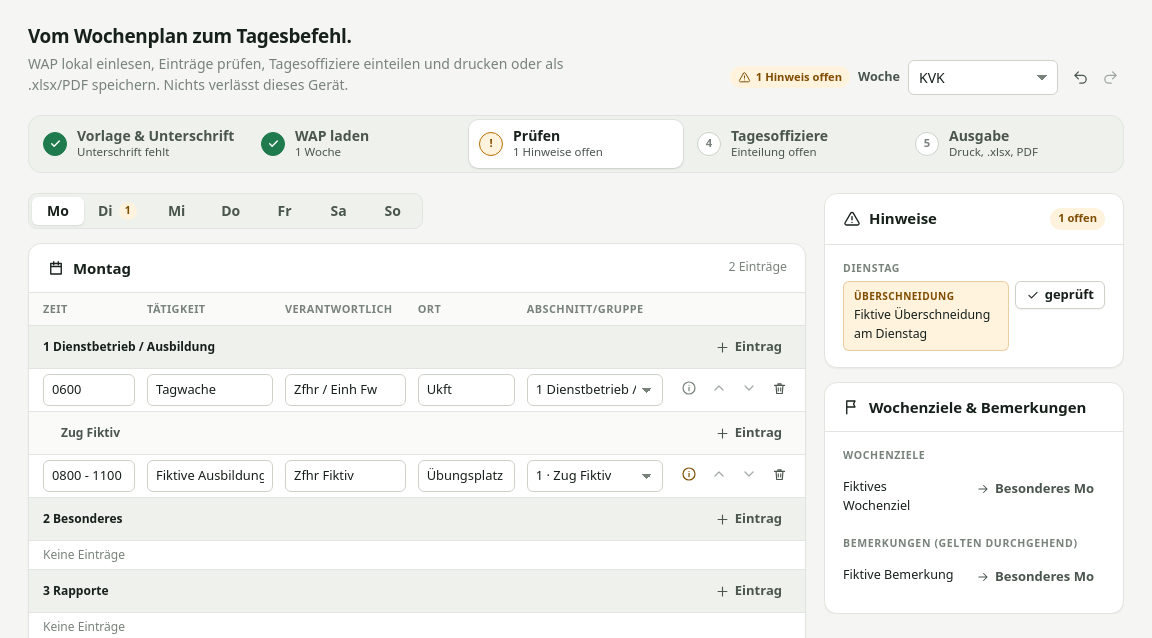
Vorlage & Unterschrift › offers a former device-wide signature to the service and never uses it silently
Click the button "Vorlage & Unterschrift Unterschrift fehlt" at (140, 144), box [33, 120, 247, 168]
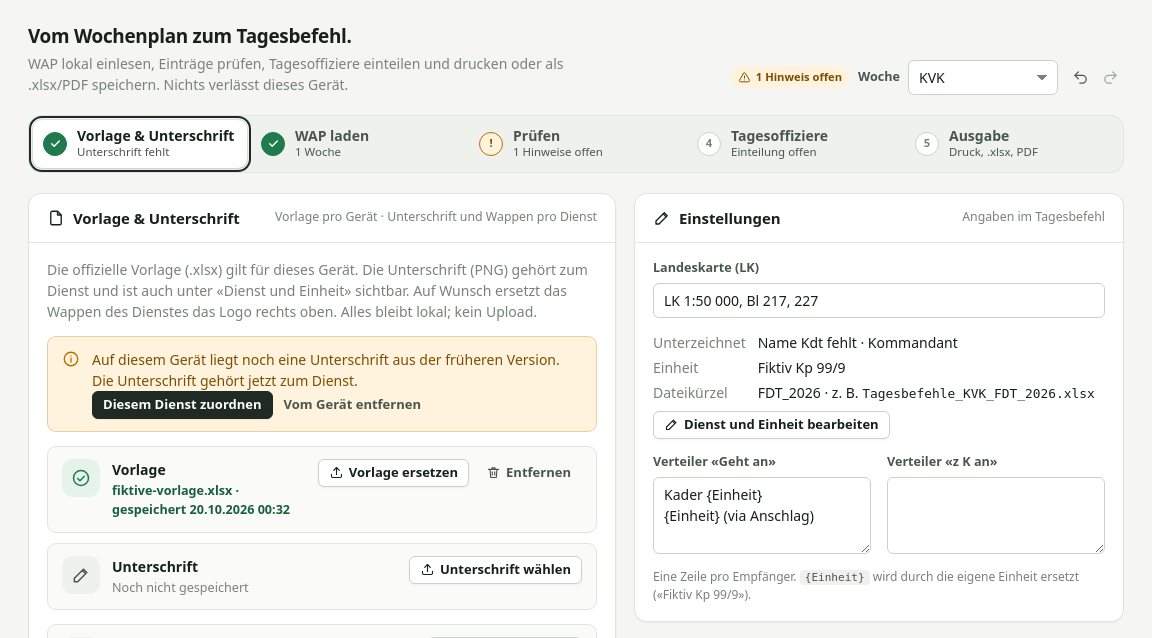
expect the element with test id "tb-legacy-signature" shows "gehört jetzt zum Dienst": met, box [92, 350, 560, 390]
expect the text with test id "tb-asset-signature" reads "Noch nicht gespeichert": met, box [112, 578, 249, 596]
Click the button "Diesem Dienst zuordnen" at (182, 405), box [92, 391, 273, 419]
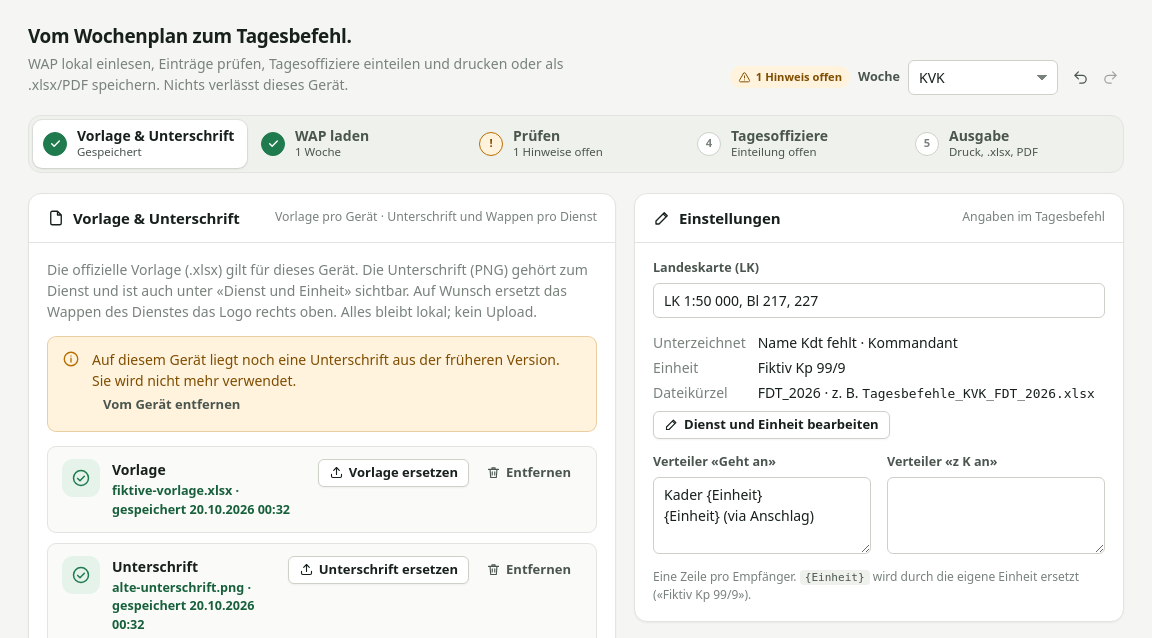
expect the element with test id "tb-legacy-signature" shows "nicht mehr verwendet": met, box [92, 350, 560, 390]
Click the button "Vom Gerät entfernen" at (172, 405), box [92, 391, 251, 419]
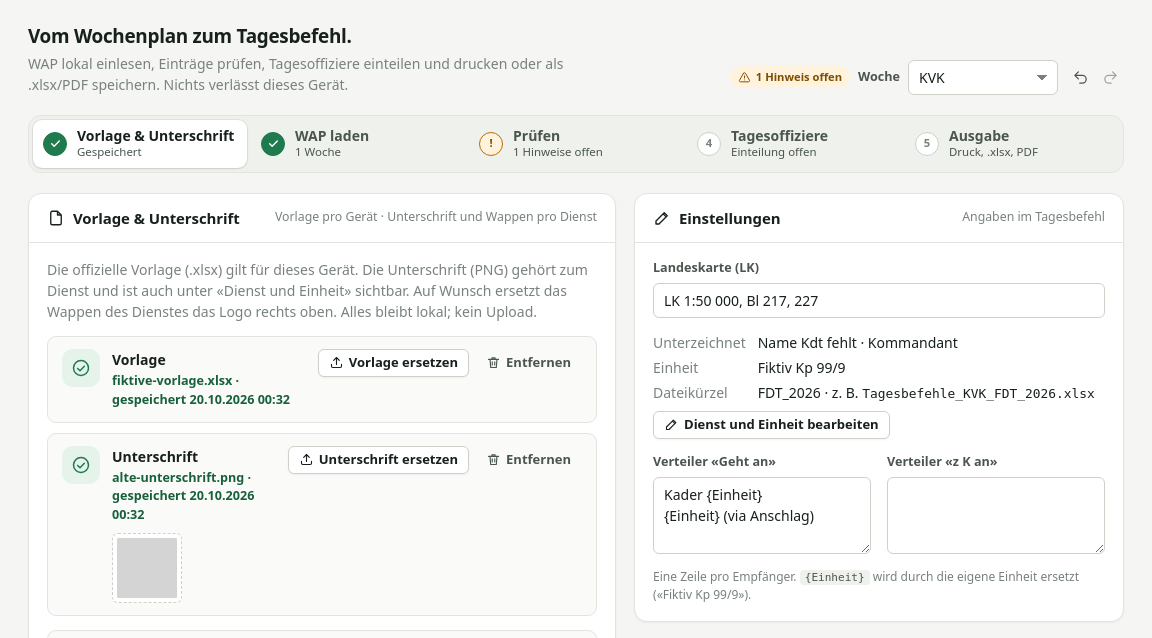
expect the element with test id "tb-legacy-signature" is gone: met
